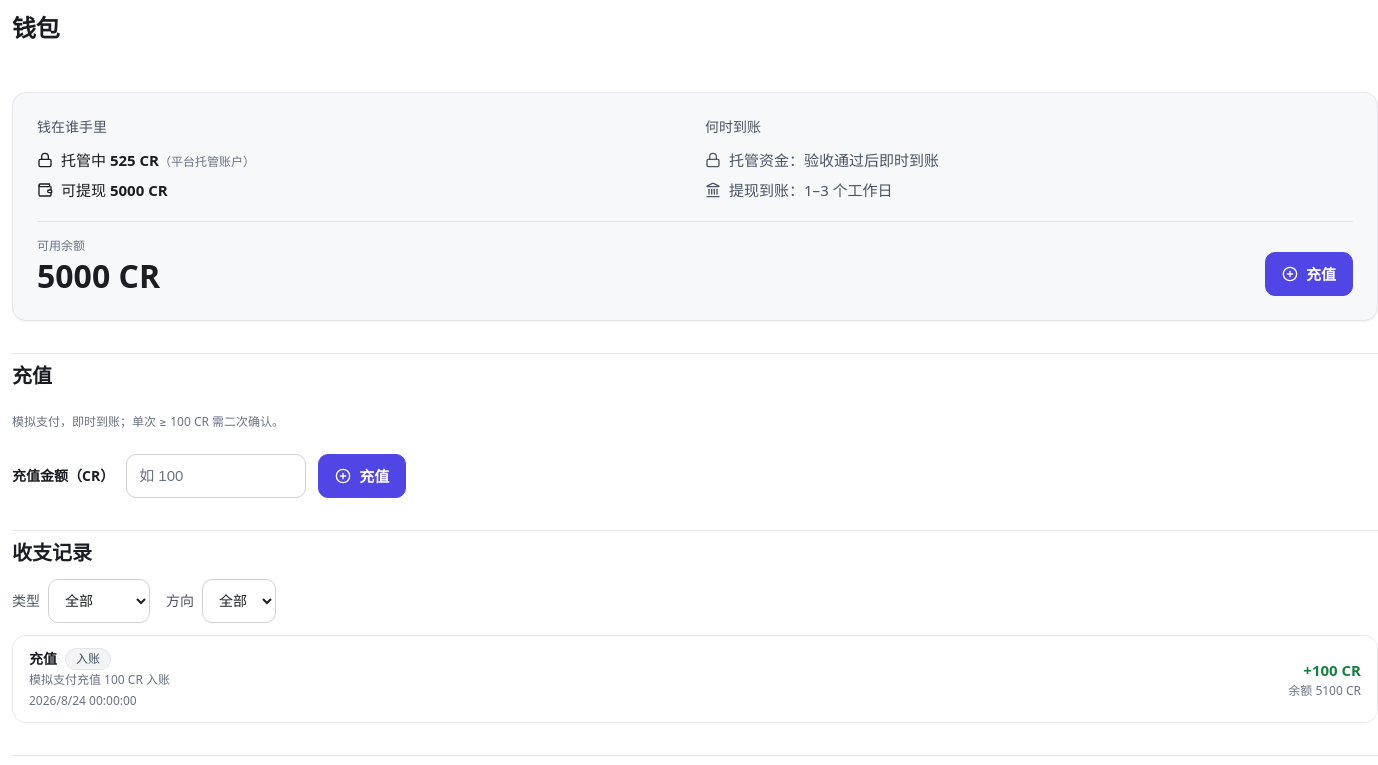
WalletPage（区域 6 钱包） › small topup submits directly with confirm:false（小额直提）
Expected: the element with test id "wallet-balance" is shown, x1=12 y1=92 x2=1377 y2=321
Type "50" into the number field labelled "充值金额" at (216, 476), box x1=126 y1=454 x2=306 y2=498
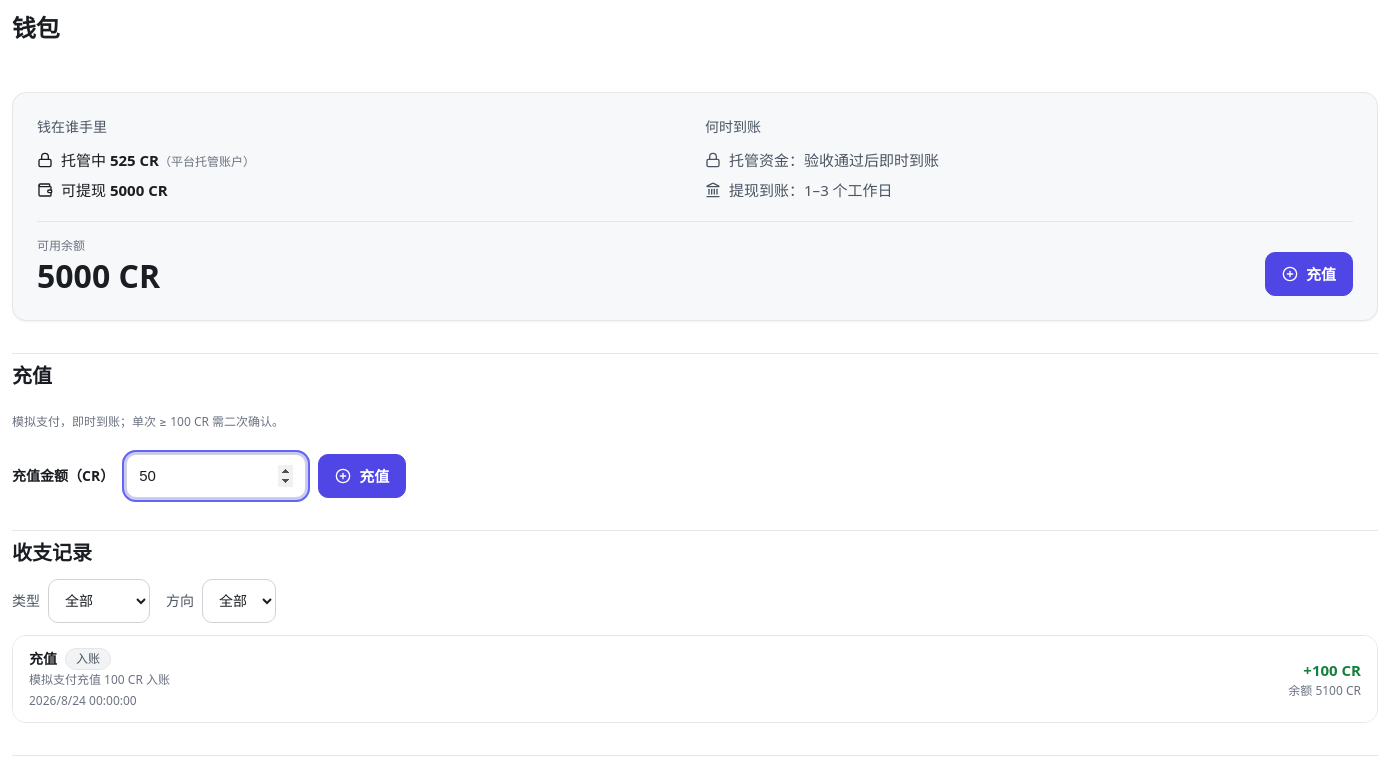
Click the button "充值" in the row of "充值金额（CR）" at (362, 476), box x1=318 y1=454 x2=406 y2=498
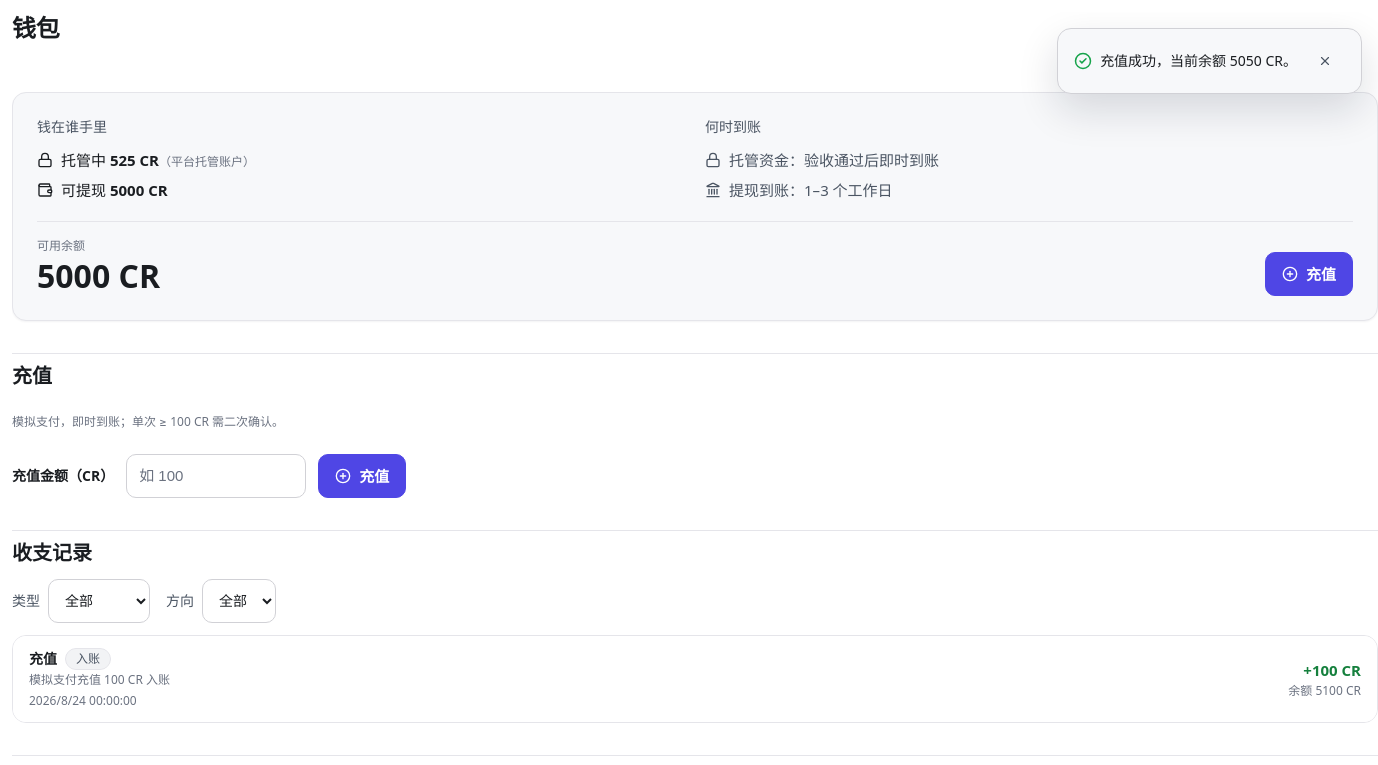
Expected: the element with test id "toast" is shown, x1=1057 y1=28 x2=1362 y2=94
